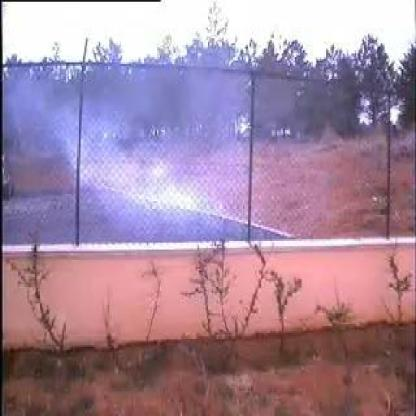-: (80, 76, 254, 246)
